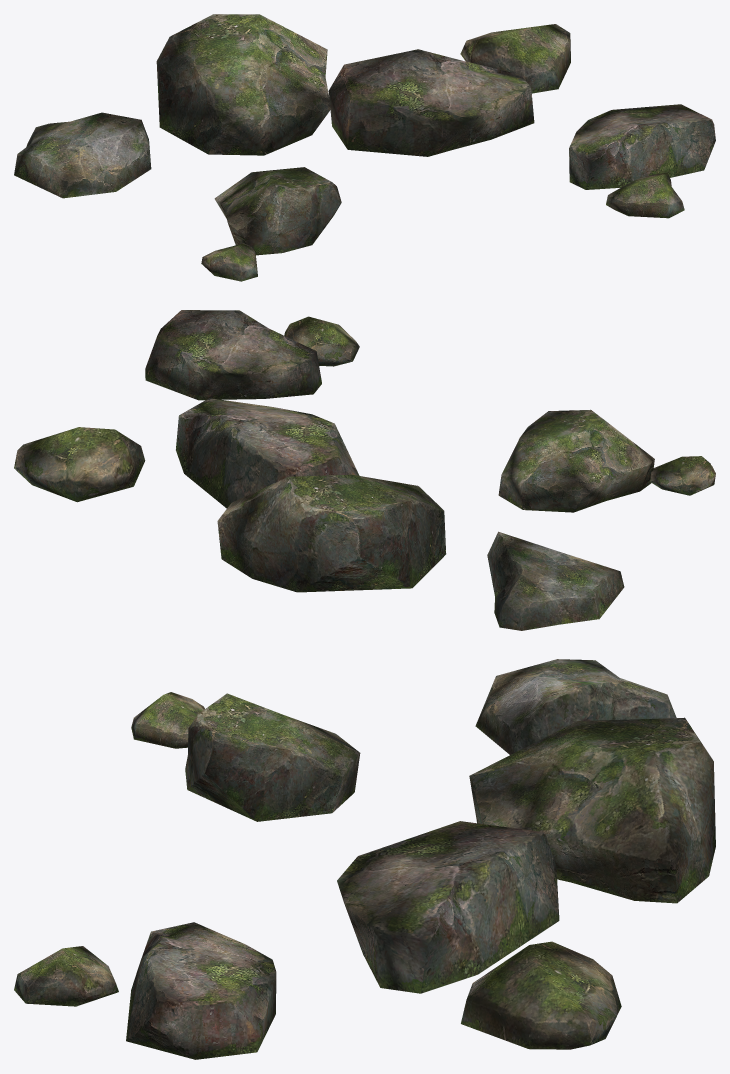
The model's file is Rock02.glb.
3 views of the same model, one above another, from view 1: azimuth 30°, elevation 25°; view 2: azimuth 150°, elevation 25°; view 3: azimuth 270°, elevation 25° (orthographic). The views are drawn at different scales.
Visible parts, largest first — view 1: common_rock_02; view 2: common_rock_02; view 3: common_rock_02.
Boxes of the visible parts, x1,y1,x2,y2 form: common_rock_02: (14, 14, 715, 281); common_rock_02: (14, 310, 715, 630); common_rock_02: (14, 659, 715, 1059).
Size of the model in its own units: 3.46 by 0.4894 by 2.73.
1 material, 1 textured.
